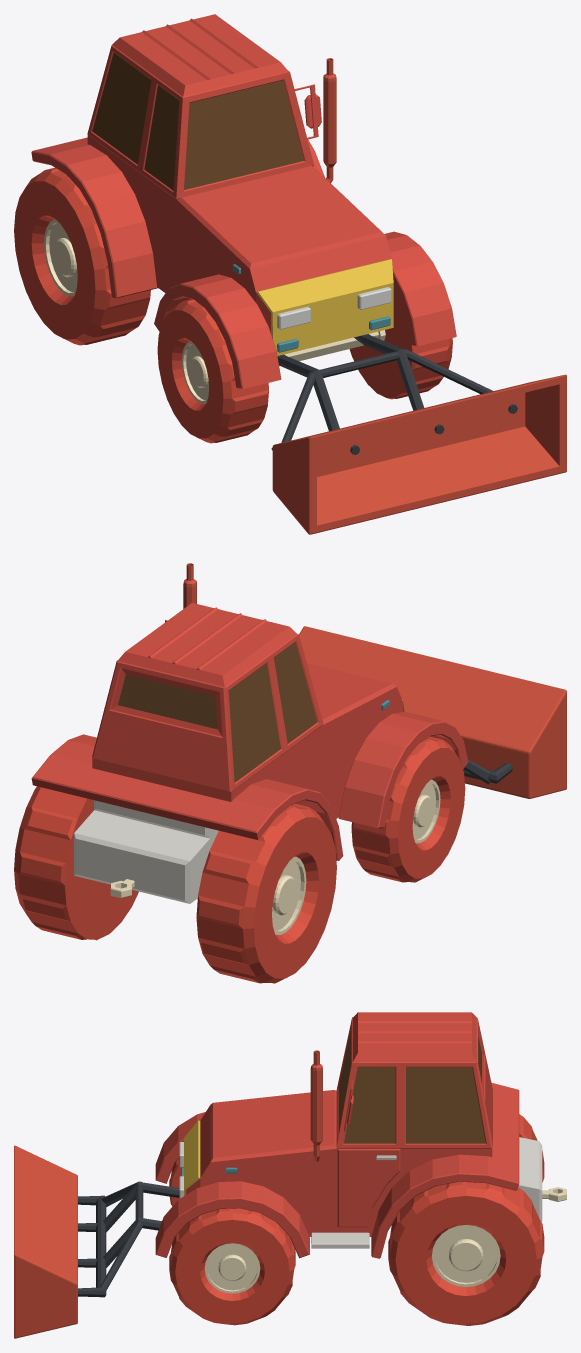
Rendered from tractor_a02.gltf.
3 renders of one model, top to bottom at view 1: azimuth 30°, elevation 25°; view 2: azimuth 150°, elevation 25°; view 3: azimuth 270°, elevation 25°, orthographic. The views are drawn at different scales.
Parts seen in each view (by area): view 1: Rectangle024, Box1496, Cylinder146, tractor_a02_001, Line256, Cylinder148, Line255, Box1492; view 2: Rectangle024, Cylinder146, Box1496, Rectangle023, tractor_a02_001, Cylinder148, Line256; view 3: Rectangle024, Cylinder146, Box1496, tractor_a02_001, Cylinder148, Line256, Rectangle023, Line255, Box1494.
Part boxes in pixels (bbox=[...]): Rectangle024: bbox=[31, 14, 456, 388]; Box1496: bbox=[272, 374, 566, 534]; Cylinder146: bbox=[14, 167, 452, 443]; tractor_a02_001: bbox=[92, 52, 393, 355]; Line256: bbox=[271, 334, 517, 454]; Cylinder148: bbox=[44, 219, 385, 403]; Line255: bbox=[323, 58, 336, 182]; Box1492: bbox=[277, 287, 391, 329]; Rectangle024: bbox=[31, 603, 468, 860]; Cylinder146: bbox=[14, 736, 465, 983]; Box1496: bbox=[299, 626, 566, 798]; Rectangle023: bbox=[74, 800, 218, 903]; tractor_a02_001: bbox=[118, 642, 404, 782]; Cylinder148: bbox=[110, 779, 440, 934]; Line256: bbox=[463, 759, 512, 784]; Rectangle024: bbox=[155, 1012, 519, 1258]; Cylinder146: bbox=[169, 1114, 544, 1325]; Box1496: bbox=[14, 1145, 77, 1338]; tractor_a02_001: bbox=[184, 1031, 485, 1195]; Cylinder148: bbox=[204, 1187, 566, 1293]; Line256: bbox=[78, 1181, 179, 1297]; Rectangle023: bbox=[518, 1137, 542, 1221]; Line255: bbox=[310, 1050, 322, 1161]; Box1494: bbox=[311, 1232, 369, 1248].
Size of the model in its own units: 2.51 by 2.78 by 5.35.
Materials: 1 (1 with a texture image).
